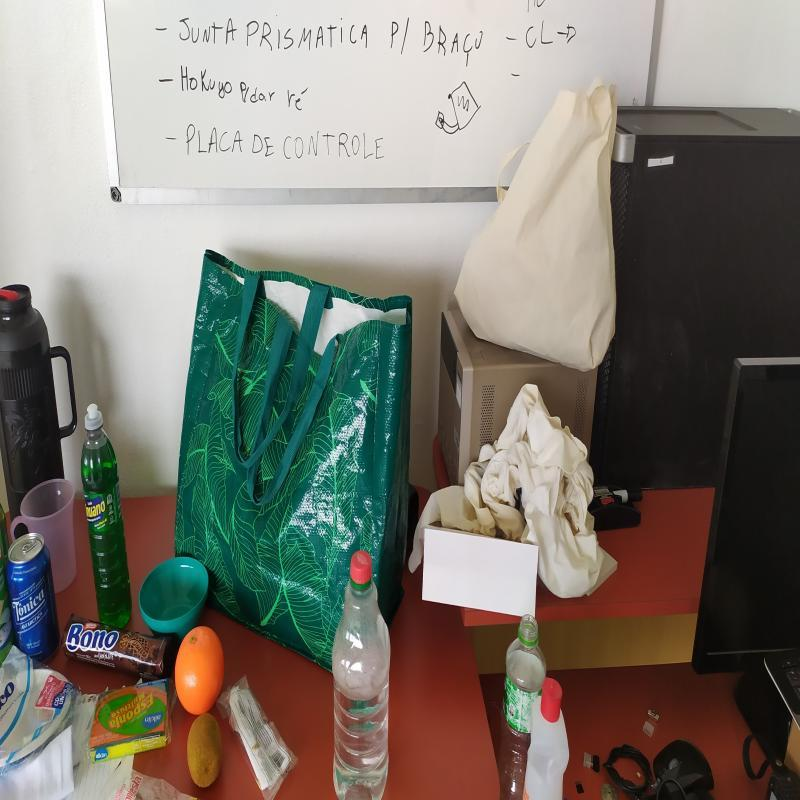Bag: (176, 249, 414, 683), (454, 75, 620, 370)
Bowl: (140, 556, 210, 636)
Cleaner: (79, 400, 132, 628)
Cookies: (64, 610, 170, 676)
Kiwi: (186, 713, 219, 786)
Mug: (12, 469, 76, 602)
Orange: (175, 623, 226, 714)
Plate: (0, 662, 74, 766)
Sponge: (92, 677, 172, 770)
Tonic: (5, 528, 60, 662)
